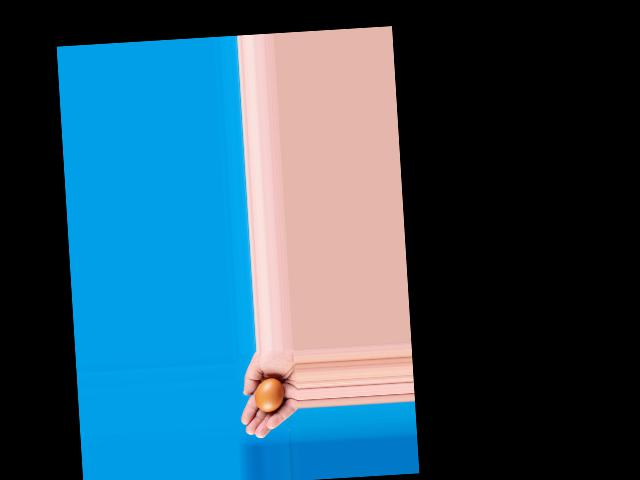egg: (254, 377, 284, 413)
